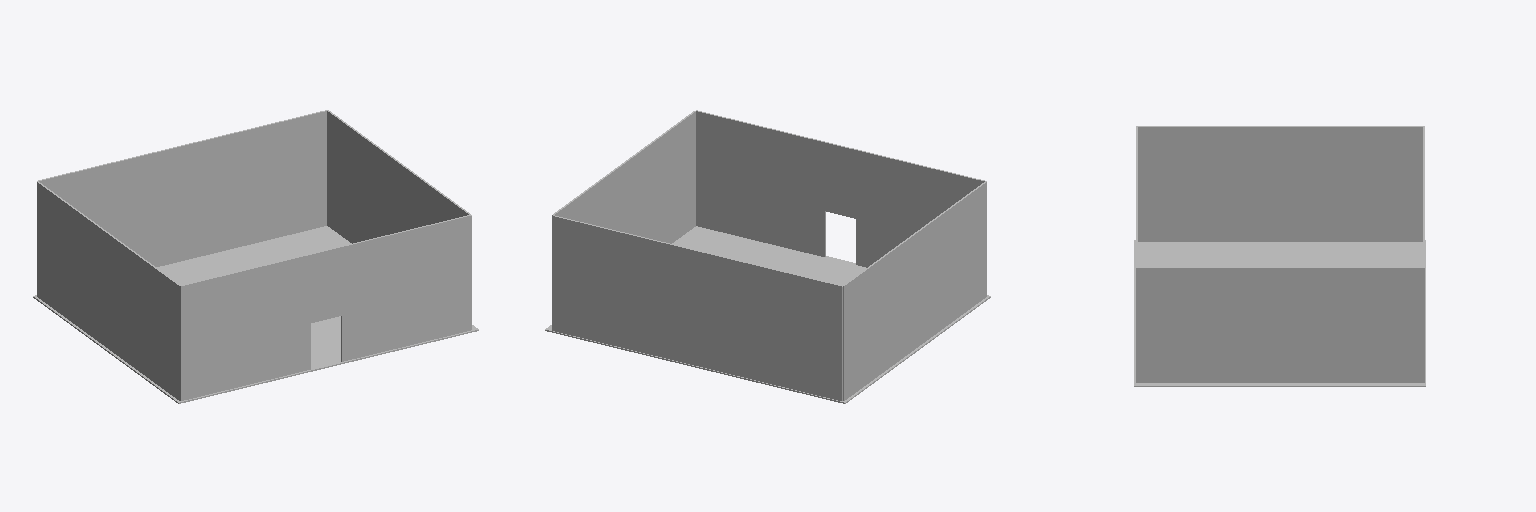
File: Interior1DePrueba.obj
3 views of the same model, side by side, from view 1: azimuth 30°, elevation 25°; view 2: azimuth 150°, elevation 25°; view 3: azimuth 270°, elevation 25° (orthographic).
Visible parts, largest first — view 1: interior1; view 2: interior1; view 3: interior1.
Boxes of the visible parts, box(x1,y1,x2,y2) form: interior1: box(33, 110, 478, 403); interior1: box(545, 110, 990, 403); interior1: box(1134, 126, 1425, 386).
Bounding box in the file's own units: 36.03 × 13.32 × 30.29.